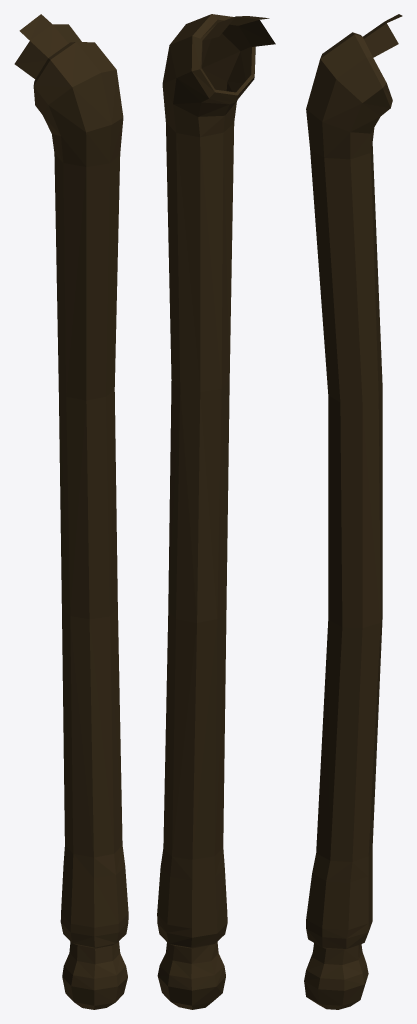
Rendered from ant-scape-left.dae.
The picture shows the model from 3 angles, left to right: view 1: azimuth 30°, elevation 25°; view 2: azimuth 210°, elevation 25°; view 3: azimuth 270°, elevation 25°; orthographic projection. The views are drawn at different scales.
Parts seen in each view (by area): view 1: ant-scape-left; view 2: ant-scape-left; view 3: ant-scape-left.
Boxes of the visible parts, <box> form: ant-scape-left: <box>14,14,128,1009</box>; ant-scape-left: <box>157,14,275,1009</box>; ant-scape-left: <box>304,14,402,1009</box>.
Bounding box in the file's own units: 0.4752 × 0.49 × 5.34.
